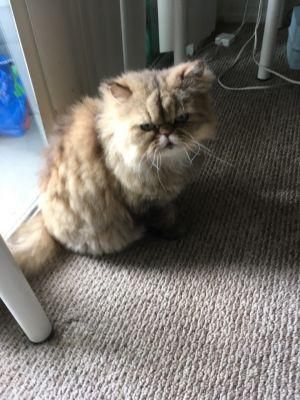persian: (86, 61, 215, 174)
